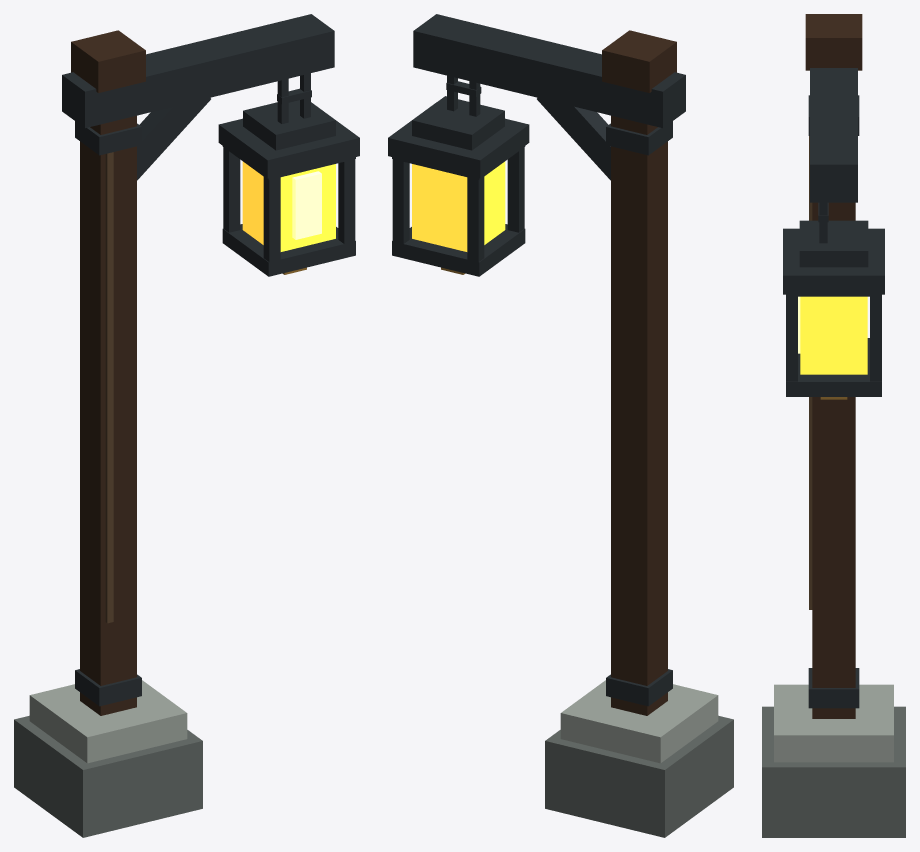
The model's file is hanging_lantern_post.glb.
3 views of the same model, side by side, from view 1: azimuth 30°, elevation 25°; view 2: azimuth 150°, elevation 25°; view 3: azimuth 270°, elevation 25° (orthographic). The views are drawn at different scales.
Parts seen in each view (by area): view 1: hanging_lantern_post; view 2: hanging_lantern_post; view 3: hanging_lantern_post.
Boxes of the visible parts, <box> form: hanging_lantern_post: <box>14,14,359,837</box>; hanging_lantern_post: <box>388,14,733,837</box>; hanging_lantern_post: <box>762,14,905,837</box>.
Size of the model in its own units: 1.15 by 2.88 by 0.48.
